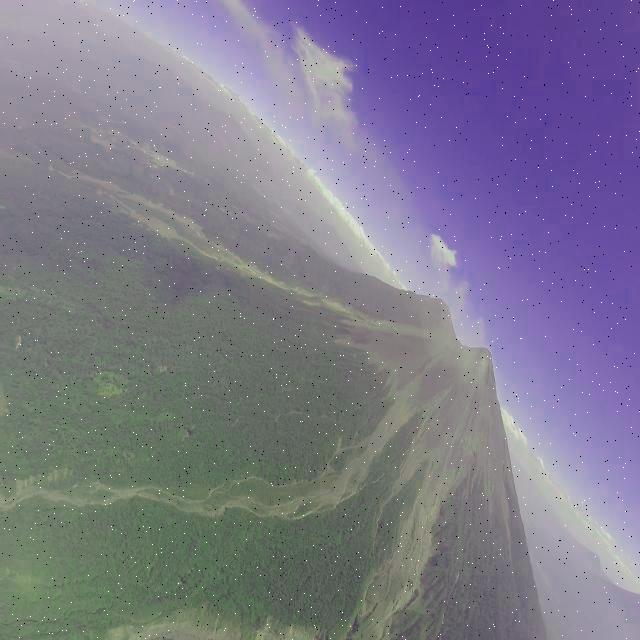Plume: (430, 230, 458, 278)
Summit: (472, 344, 498, 367)
